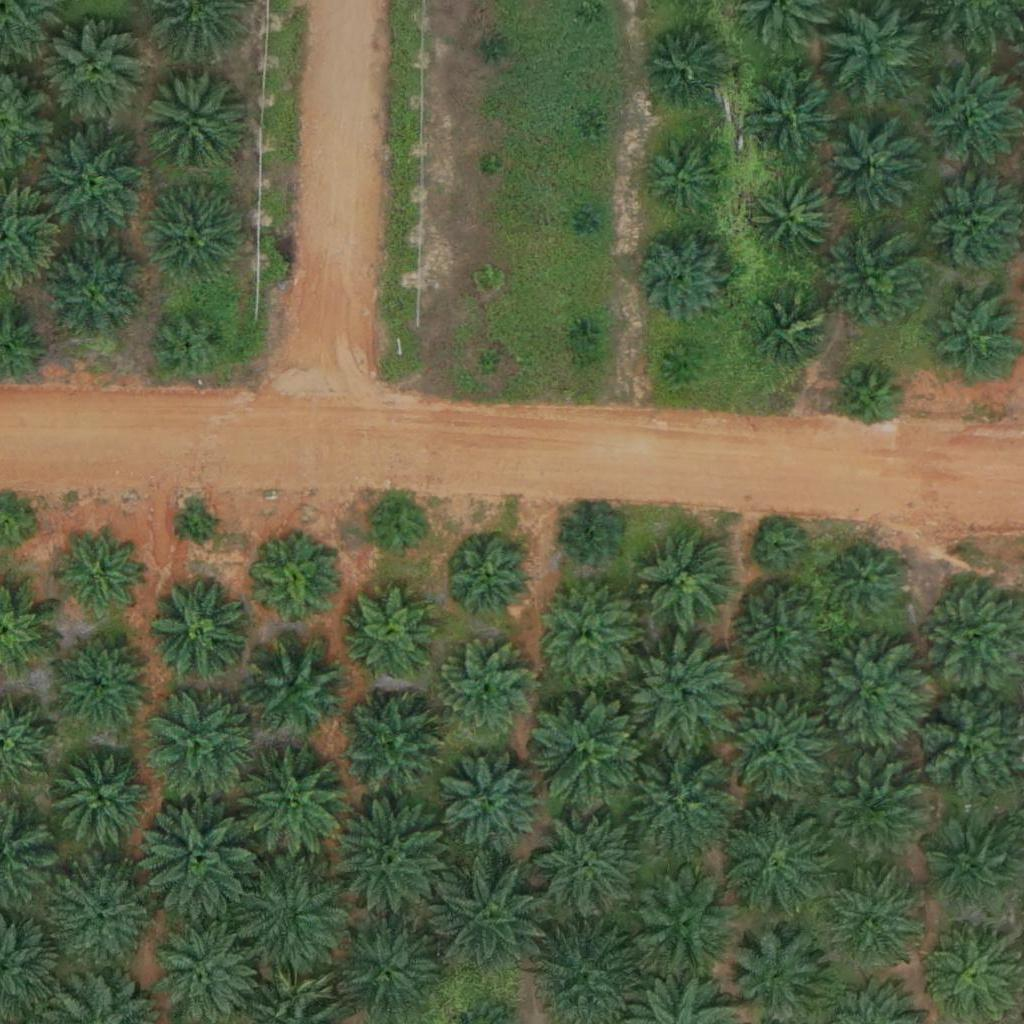Kelapa_Sawit: (134, 799, 259, 925), (227, 856, 352, 982), (323, 798, 448, 924), (428, 857, 553, 983), (529, 688, 654, 814), (612, 737, 737, 863), (717, 799, 842, 925), (713, 691, 838, 816), (237, 747, 350, 861), (337, 688, 450, 802), (37, 125, 150, 238), (626, 637, 739, 750), (627, 869, 740, 982), (626, 222, 738, 335), (143, 682, 255, 795), (437, 749, 549, 862), (528, 806, 640, 919), (815, 640, 927, 753), (816, 752, 928, 865), (823, 3, 923, 104), (740, 64, 840, 165), (827, 231, 927, 332), (921, 176, 1021, 277), (44, 243, 144, 344), (50, 632, 150, 733), (52, 748, 152, 849), (49, 864, 149, 965), (433, 642, 533, 743), (537, 583, 637, 684), (637, 531, 737, 632), (726, 585, 826, 686), (921, 68, 1021, 168), (142, 71, 242, 171), (147, 185, 247, 285), (48, 24, 148, 124), (150, 577, 250, 677), (245, 635, 345, 735), (644, 133, 732, 222), (641, 25, 729, 113), (750, 177, 838, 265), (55, 532, 143, 620), (348, 587, 436, 675), (447, 536, 535, 624), (828, 875, 916, 963), (830, 129, 917, 217), (254, 541, 341, 629), (153, 307, 228, 383), (757, 295, 832, 370), (829, 544, 904, 619), (836, 368, 899, 431), (559, 506, 622, 569), (369, 499, 431, 562), (754, 523, 804, 573), (666, 344, 704, 382), (181, 507, 218, 545), (582, 4, 607, 29), (576, 120, 601, 145), (482, 37, 507, 62), (478, 155, 503, 180), (474, 267, 499, 292), (477, 351, 502, 376), (577, 209, 602, 234), (570, 319, 595, 344)
